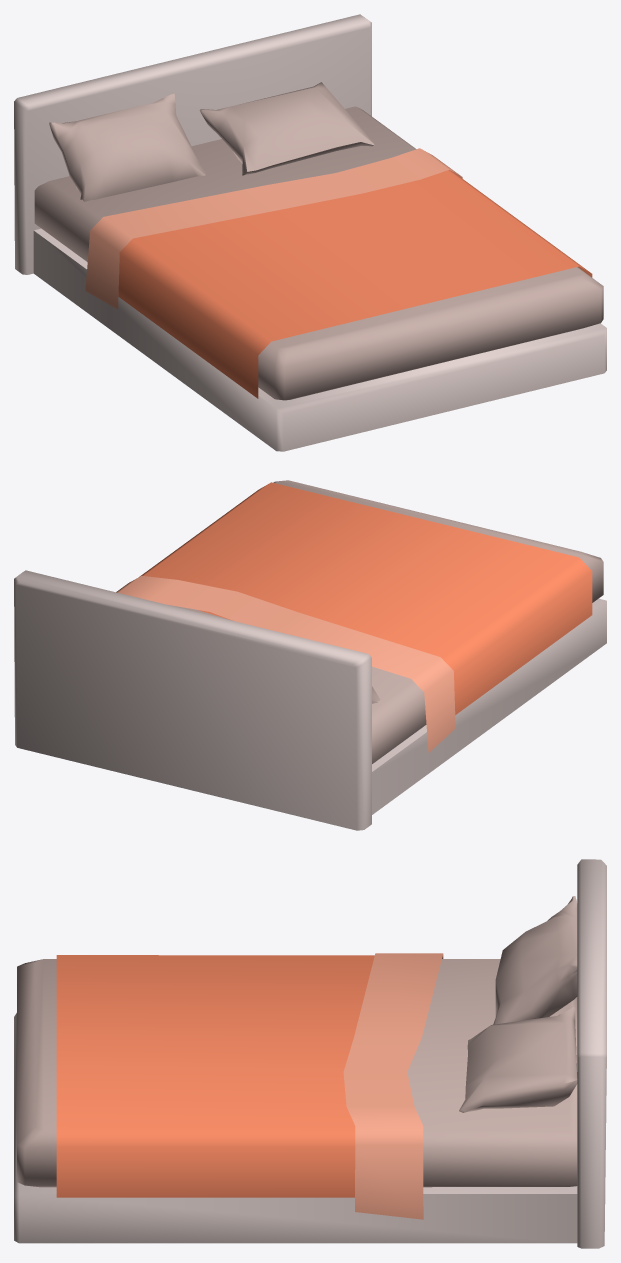
Rendered from bed_007.glb.
3 views of the same model, one above another, from view 1: azimuth 30°, elevation 25°; view 2: azimuth 150°, elevation 25°; view 3: azimuth 270°, elevation 25° (orthographic). The views are drawn at different scales.
Parts seen in each view (by area): view 1: bed_007; view 2: bed_007; view 3: bed_007.
Boxes of the visible parts, x1=… form: bed_007: x1=14, y1=14, x2=606, y2=451; bed_007: x1=14, y1=480, x2=606, y2=830; bed_007: x1=14, y1=859, x2=606, y2=1248.
Bounding box in the file's own units: 1.38 × 0.6394 × 1.76.
1 material, 1 textured.
